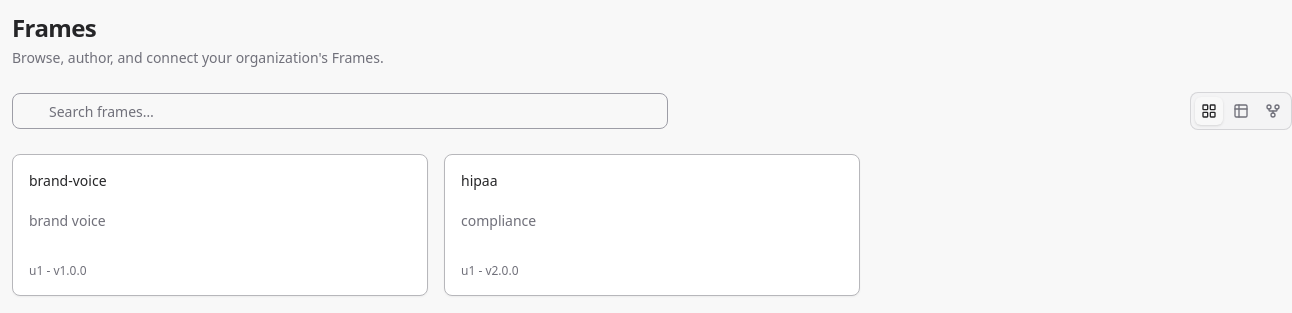
lists frames and filters by search
Check: the text "brand-voice" is shown, box [29,171,106,190]
Check: the text "hipaa" is shown, box [461,171,498,190]
Type "brand" into the search field with placeholder "Search frames…". click: point(340, 111)
box: [12,93,668,129]
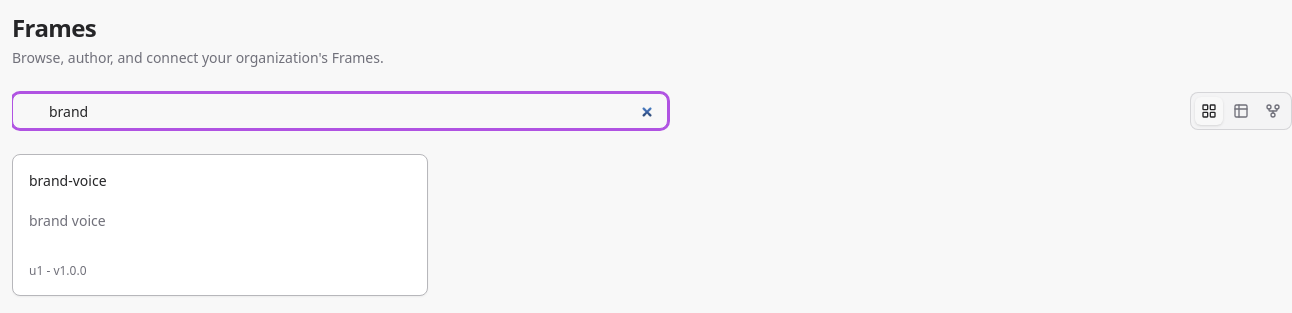
Check: the text "brand-voice" is shown, box [29,171,106,190]
Check: the link "hipaa" is gone
